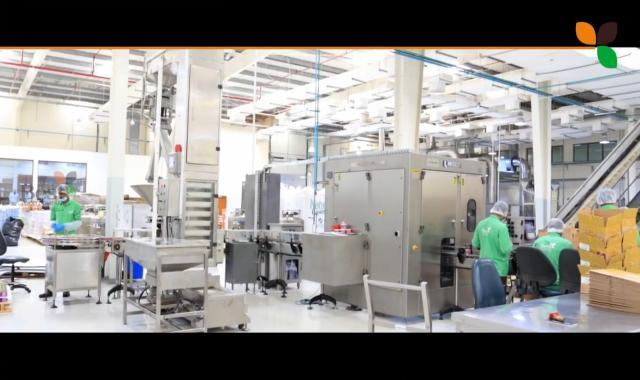Glove: (53, 224, 64, 231)
Hairnet: (52, 202, 79, 235), (492, 200, 509, 218), (547, 218, 564, 232), (56, 185, 72, 194)
Mask: (57, 196, 68, 201)
No_Apron: (535, 238, 572, 284), (478, 221, 509, 273)
